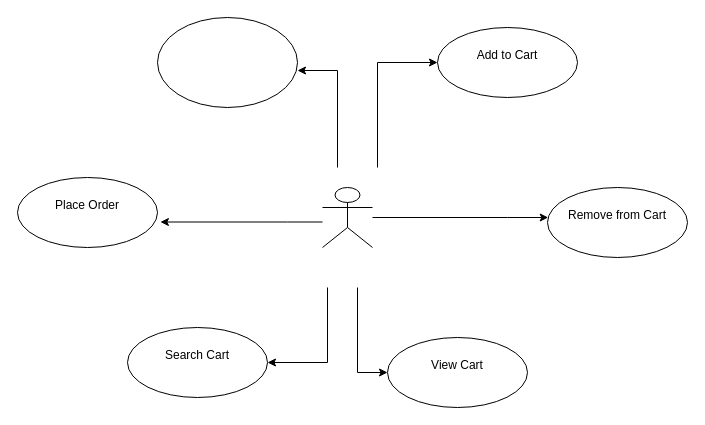
This 705x425 diagram has some shape labels left out. The shapes that lost their labels are listed below. From the top down, each one's box as (x1, y1, x2, y2) in pixels, then its label:
(156, 16, 298, 108): View Store
(322, 186, 372, 248): Customer
